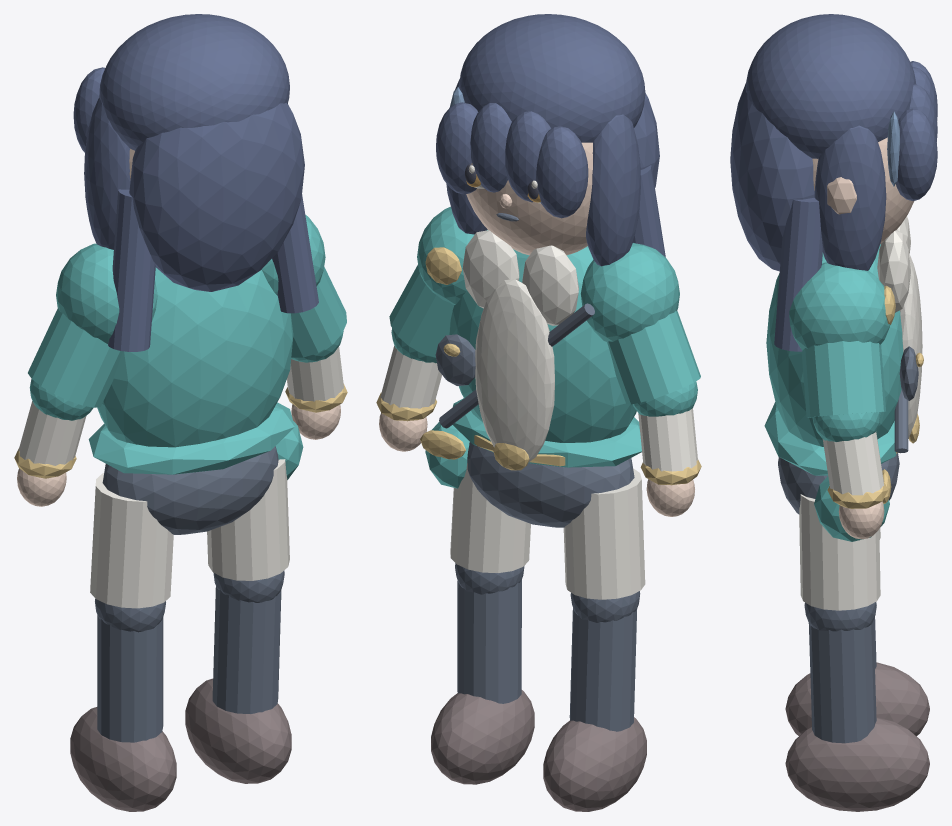
The model's file is anime-field-hunter.glb.
3 renders of one model, left to right at view 1: azimuth 30°, elevation 25°; view 2: azimuth 150°, elevation 25°; view 3: azimuth 270°, elevation 25°, orthographic. The views are drawn at different scales.
Visible parts, largest first — view 1: back hair, jacket torso, hair cap, L upper leg, utility shorts, L lower leg, R lower leg, R boot, L boot, jacket hem, R upper leg, L upper sleeve (+17 smaller); view 2: hair cap, inner shirt, jacket torso, L upper leg, utility shorts, R boot, L boot, R lower leg, L lower leg, L shoulder, L side hair, L upper sleeve (+29 smaller); view 3: hair cap, R boot, back hair, R side hair, R lower leg, R shoulder, R upper leg, R upper sleeve, jacket torso, R long hair lock, L boot, fringe 3 (+17 smaller).
Boxes of the visible parts, x1,y1,x2,y2 form: back hair: (129, 102, 304, 291); jacket torso: (97, 267, 293, 447); hair cap: (99, 14, 289, 150); L upper leg: (90, 473, 173, 608); utility shorts: (102, 446, 278, 534); L lower leg: (97, 615, 163, 742); R lower leg: (212, 586, 281, 713); R boot: (185, 678, 291, 783); L boot: (70, 707, 176, 811); jacket hem: (88, 402, 294, 474); R upper leg: (207, 459, 289, 580); L upper sleeve: (28, 308, 122, 407); hair cap: (459, 14, 645, 142); inner shirt: (475, 279, 554, 462); jacket torso: (449, 246, 636, 442); L upper leg: (563, 468, 645, 599); utility shorts: (467, 442, 634, 527); R boot: (431, 690, 534, 784); L boot: (543, 717, 646, 811); R lower leg: (457, 579, 521, 703); L lower leg: (569, 608, 637, 731); L shoulder: (580, 243, 679, 341); L side hair: (586, 114, 640, 266); L upper sleeve: (607, 311, 700, 404); hair cap: (745, 14, 916, 158); R boot: (785, 717, 929, 811); back hair: (730, 82, 814, 271); R side hair: (814, 125, 886, 270); R lower leg: (808, 620, 876, 743); R shoulder: (789, 262, 890, 350); R upper leg: (799, 494, 880, 610); R upper sleeve: (801, 341, 885, 417); jacket torso: (766, 244, 903, 446); R long hair lock: (774, 197, 822, 351); L boot: (785, 662, 929, 736); fringe 3: (896, 108, 937, 201).
Bounding box in the file's own units: 0.96 × 2.19 × 0.545.
